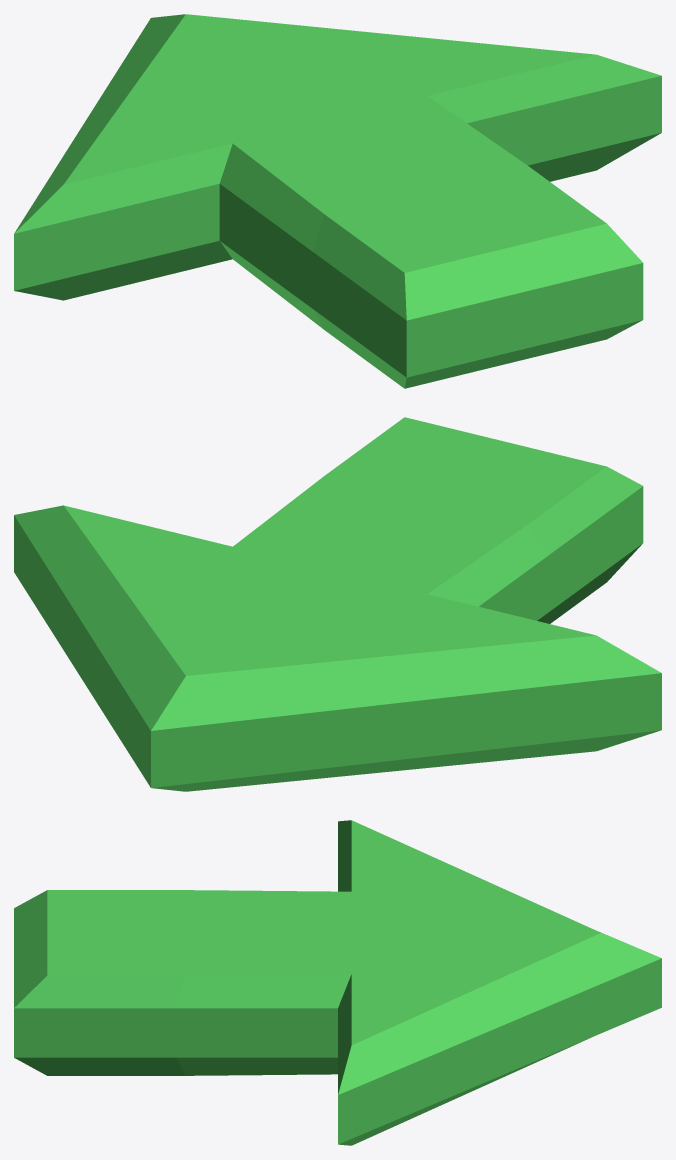
The model's file is arrow.fbx.
The picture shows the model from 3 angles, top to bottom: view 1: azimuth 30°, elevation 25°; view 2: azimuth 150°, elevation 25°; view 3: azimuth 270°, elevation 25°; orthographic projection. The views are drawn at different scales.
Parts seen in each view (by area): view 1: Cube; view 2: Cube; view 3: Cube.
Boxes of the visible parts, x1=… form: Cube: x1=14, y1=14, x2=661, y2=388; Cube: x1=14, y1=417, x2=661, y2=791; Cube: x1=14, y1=820, x2=661, y2=1145.
Size of the model in its own units: 200 by 34.16 by 200.
